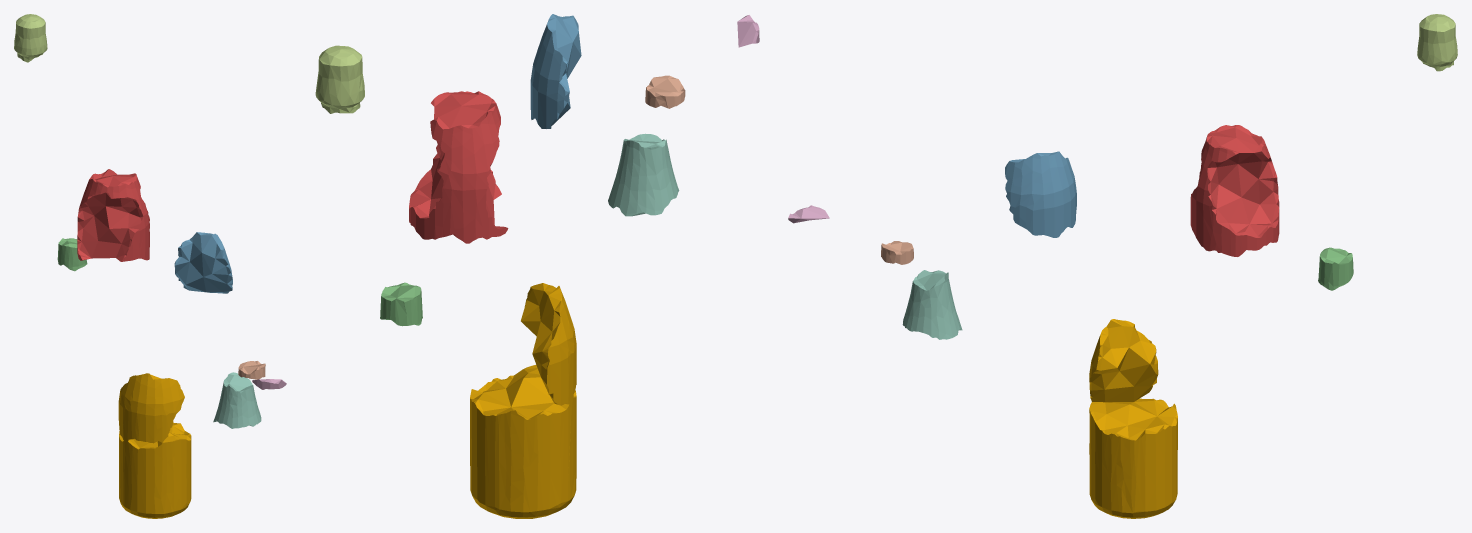
The model's file is fractured_72_8pcs_transformed.glb.
3 views of the same model, side by side, from view 1: azimuth 30°, elevation 25°; view 2: azimuth 150°, elevation 25°; view 3: azimuth 270°, elevation 25° (orthographic). The views are drawn at different scales.
Visible parts, largest first — view 1: piece_0.obj, piece_1.obj, piece_2.obj, piece_4.obj, piece_5.obj, piece_3.obj, piece_7.obj; view 2: piece_0.obj, piece_1.obj, piece_4.obj, piece_2.obj, piece_5.obj, piece_3.obj, piece_7.obj, piece_6.obj; view 3: piece_0.obj, piece_1.obj, piece_2.obj, piece_4.obj, piece_5.obj, piece_3.obj.
Part boxes in pixels (bbox=[...]): piece_0.obj: bbox=[118, 373, 191, 518]; piece_1.obj: bbox=[77, 169, 149, 261]; piece_2.obj: bbox=[174, 232, 232, 293]; piece_4.obj: bbox=[213, 372, 261, 428]; piece_5.obj: bbox=[14, 14, 47, 62]; piece_3.obj: bbox=[57, 238, 87, 271]; piece_7.obj: bbox=[238, 361, 265, 379]; piece_0.obj: bbox=[470, 283, 576, 518]; piece_1.obj: bbox=[409, 91, 508, 243]; piece_4.obj: bbox=[608, 133, 679, 216]; piece_2.obj: bbox=[530, 14, 581, 128]; piece_5.obj: bbox=[315, 45, 364, 113]; piece_3.obj: bbox=[380, 282, 422, 326]; piece_7.obj: bbox=[645, 75, 685, 108]; piece_6.obj: bbox=[737, 15, 759, 47]; piece_0.obj: bbox=[1089, 319, 1177, 518]; piece_1.obj: bbox=[1190, 125, 1279, 256]; piece_2.obj: bbox=[1005, 151, 1076, 237]; piece_4.obj: bbox=[902, 270, 962, 339]; piece_5.obj: bbox=[1417, 14, 1457, 71]; piece_3.obj: bbox=[1318, 247, 1353, 290].
Size of the model in its own units: 0.2633 by 1.6 by 1.98.
